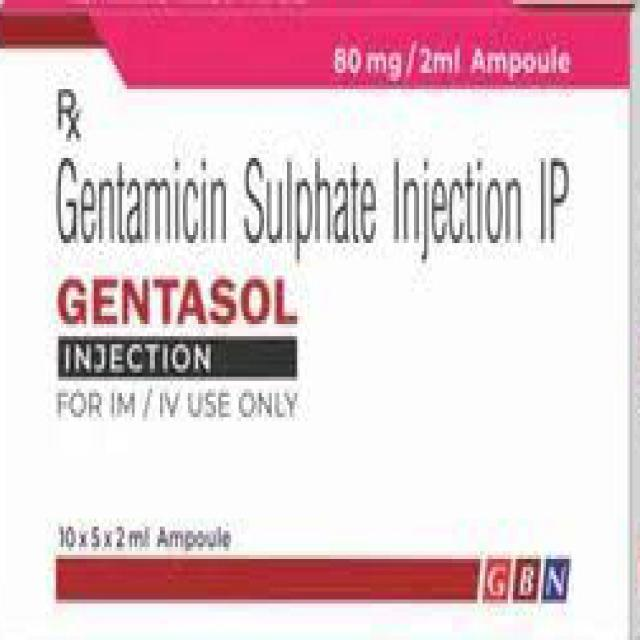drug-name: (55, 272, 303, 332)
